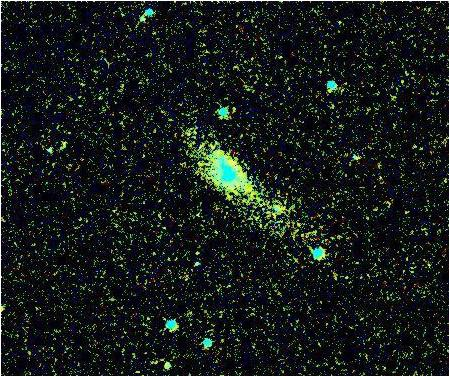star: (180, 237, 210, 267)
